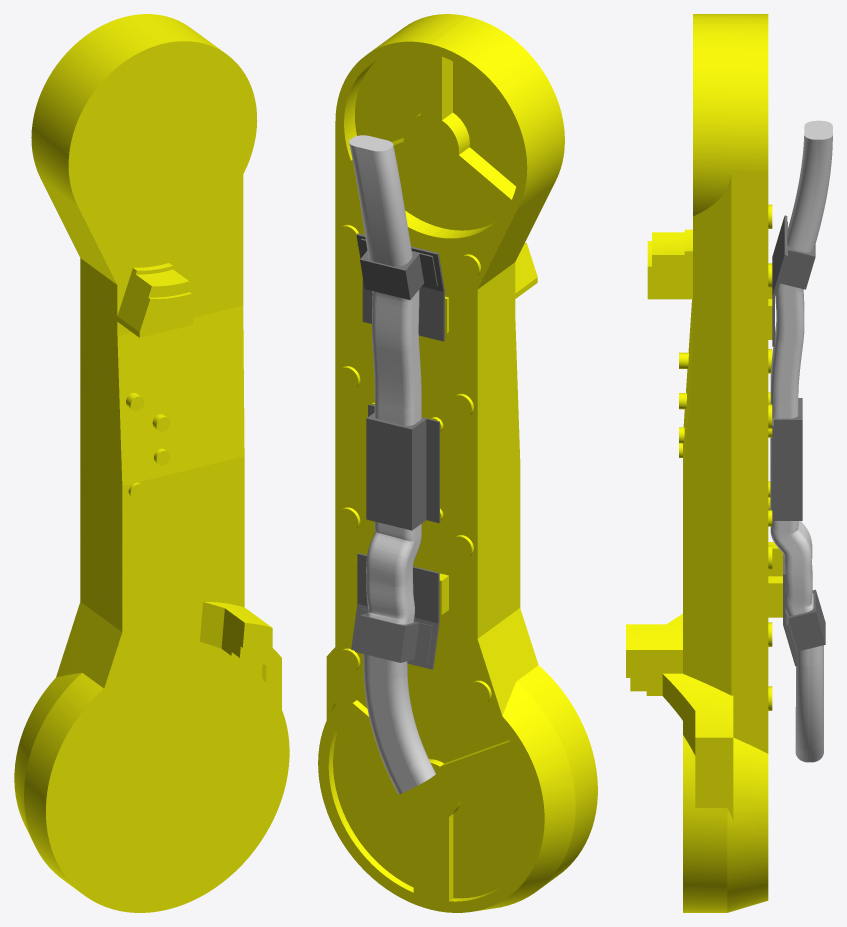
The picture shows the model from 3 angles, left to right: view 1: azimuth 30°, elevation 25°; view 2: azimuth 150°, elevation 25°; view 3: azimuth 270°, elevation 25°; orthographic projection.
Parts seen in each view (by area): view 1: Mesh_0.002; view 2: Mesh_0.002; view 3: Mesh_0.002.
Part boxes in pixels (x1,y1,x2,y2): Mesh_0.002: (14,14,289,912); Mesh_0.002: (318,14,597,912); Mesh_0.002: (626,14,832,912).
Size of the model in its own units: 0.3489 by 0.2526 by 1.18.
